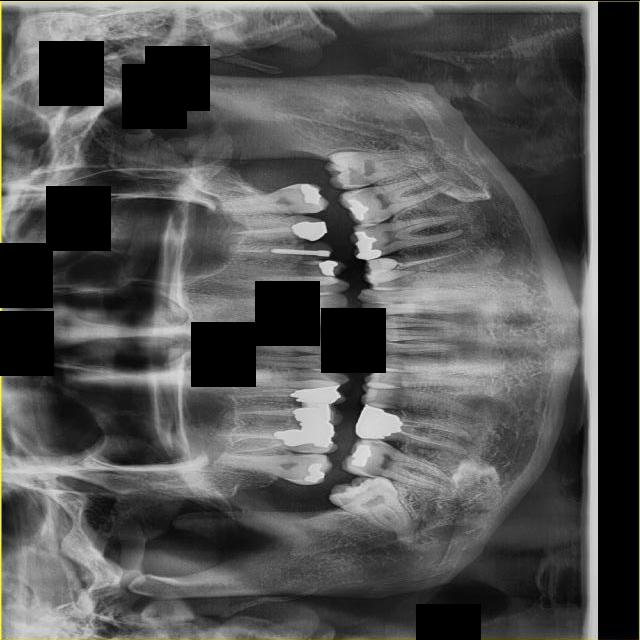71: (271, 247, 329, 256)
74: (396, 248, 470, 269), (398, 430, 451, 448), (232, 441, 284, 456), (237, 408, 295, 419), (229, 225, 293, 234), (400, 418, 449, 429), (232, 433, 278, 443), (401, 423, 454, 431), (240, 388, 297, 393), (263, 217, 293, 226), (217, 432, 274, 436), (240, 394, 290, 396), (236, 249, 267, 251)
NucleOSS Implant: (352, 402, 406, 449), (275, 419, 334, 447), (290, 384, 341, 407), (292, 217, 328, 242), (353, 229, 382, 260), (347, 439, 376, 470), (299, 178, 325, 208), (342, 196, 371, 221), (304, 461, 328, 485), (292, 406, 321, 422), (319, 260, 338, 275)
Sterngold Implant: (298, 240, 331, 251), (292, 213, 322, 222), (366, 214, 383, 225)
Straumann Implant: (361, 247, 399, 283)
Zimmer Implant: (301, 401, 344, 427)
